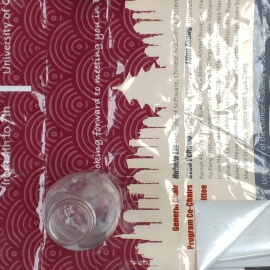bottle: (45, 172, 122, 247)
